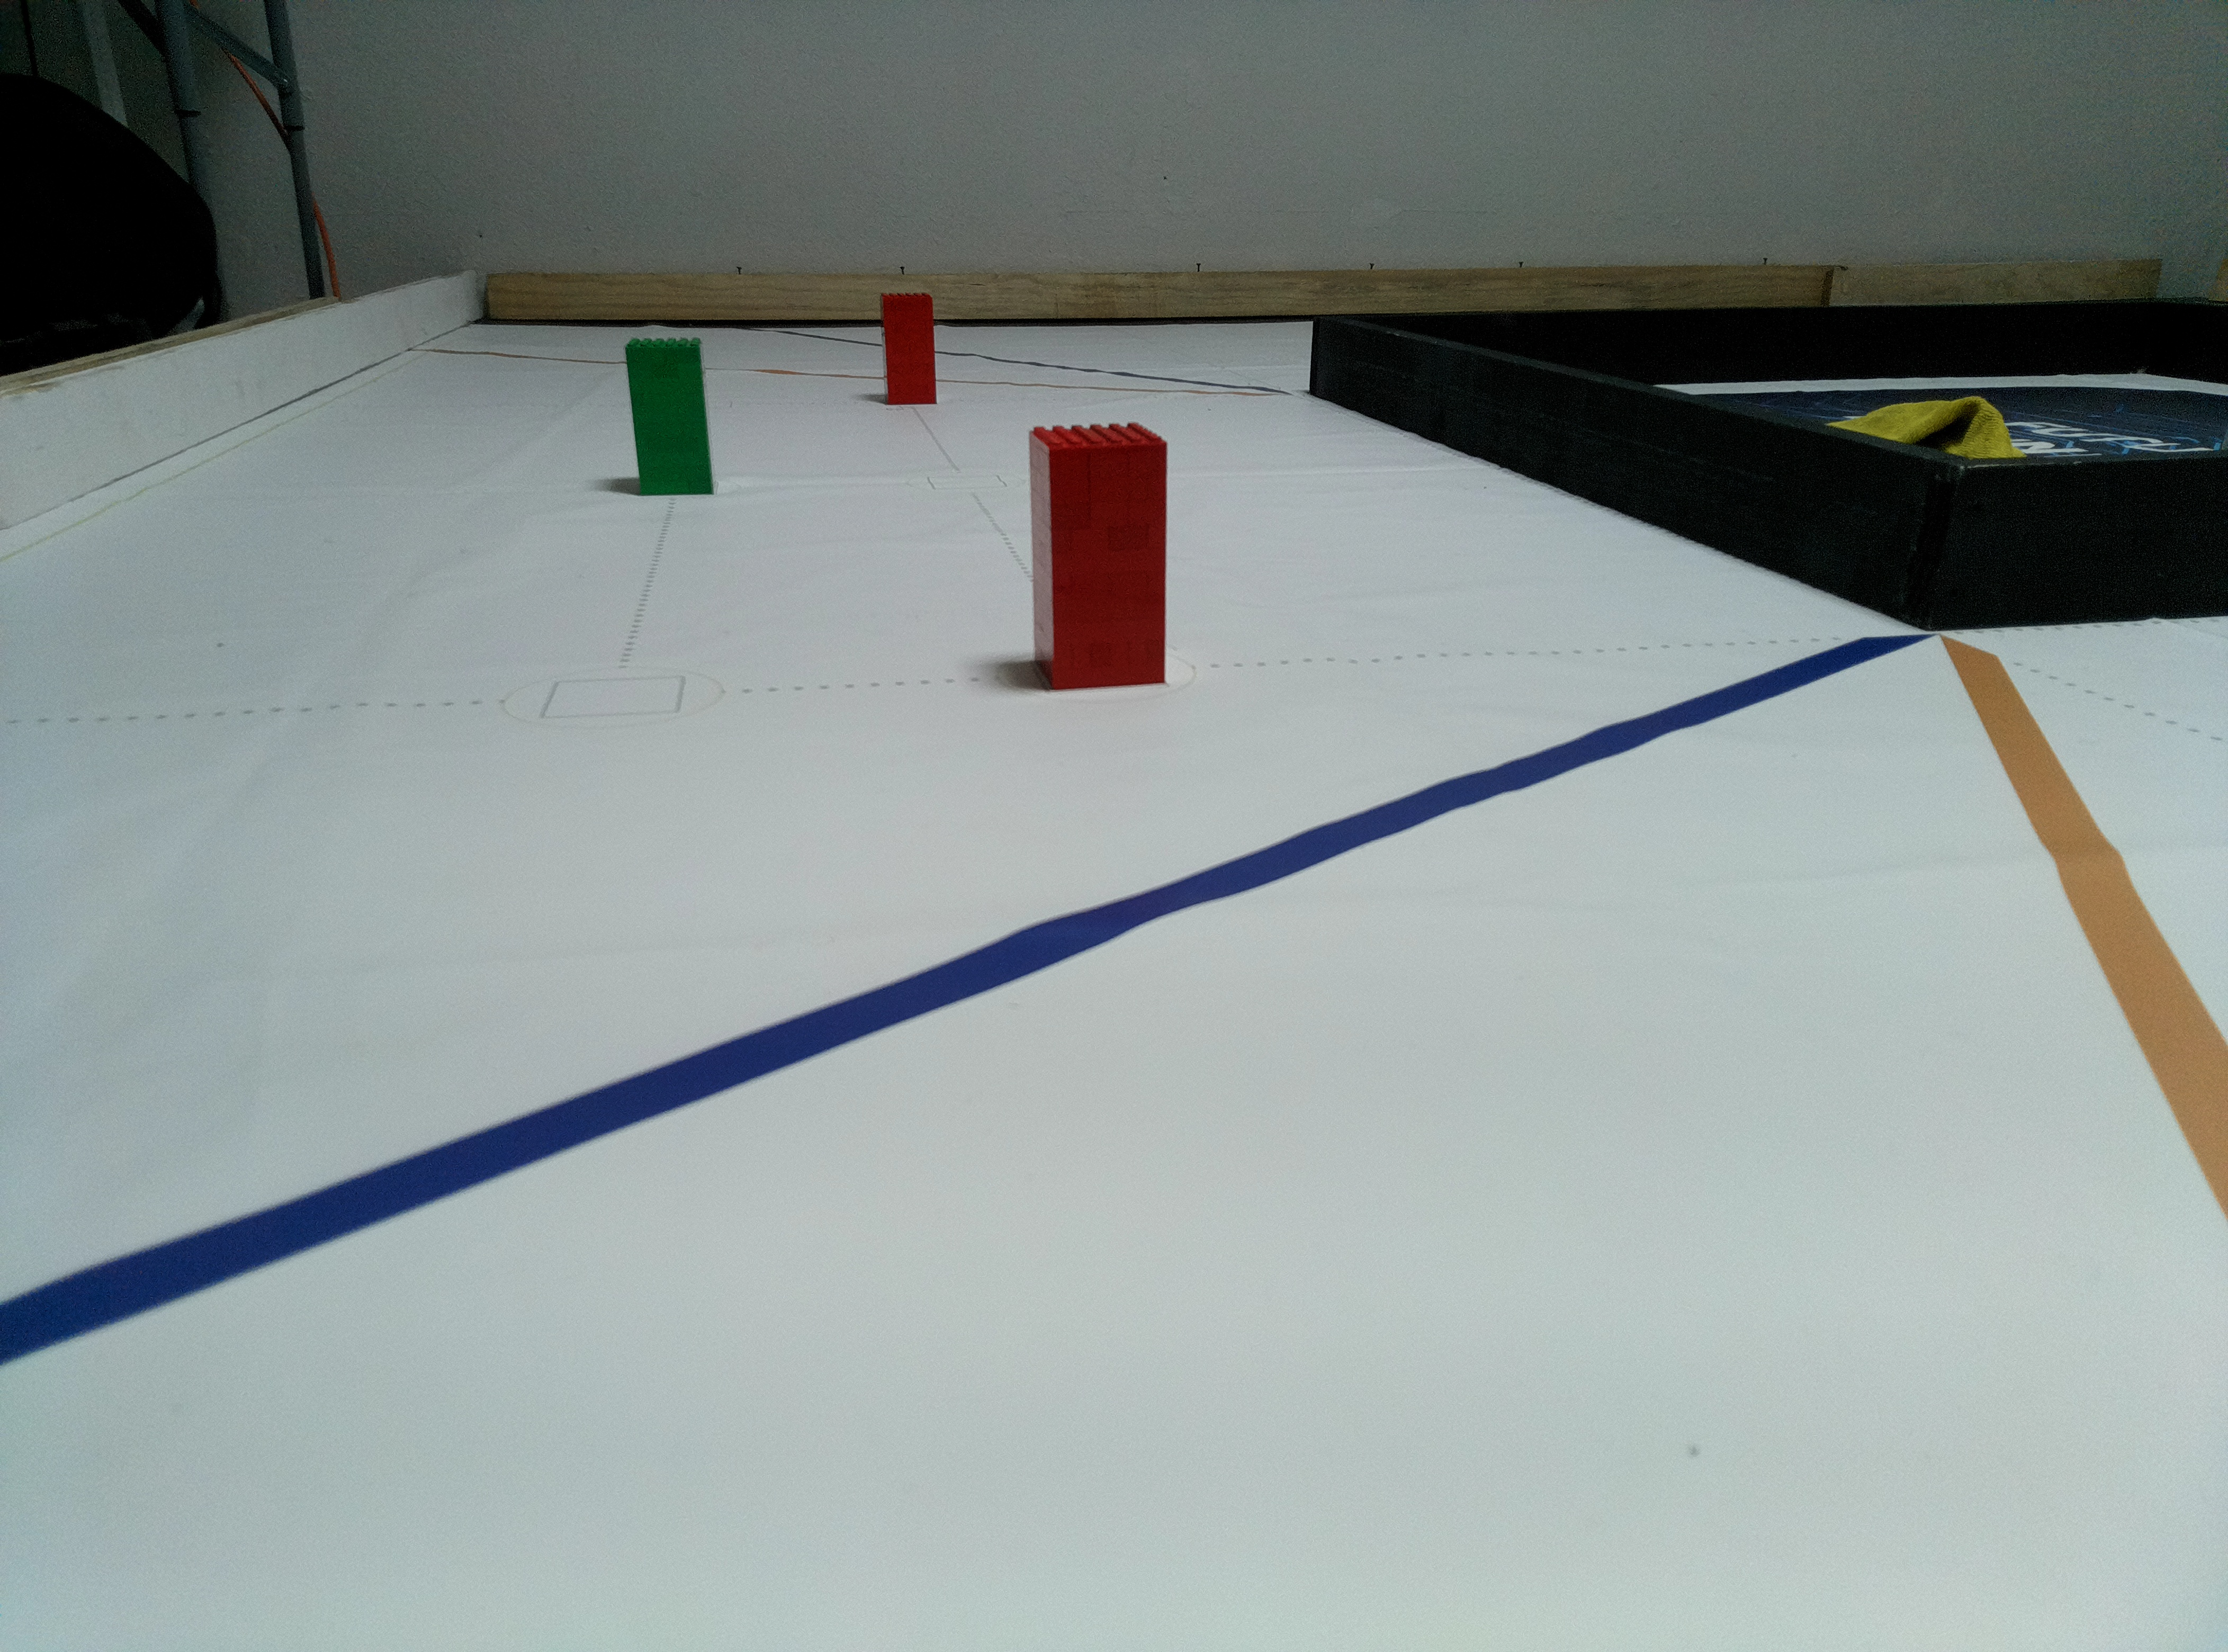greenbox: (625, 337, 715, 496)
redbox: (1027, 418, 1171, 694), (878, 292, 939, 406)
